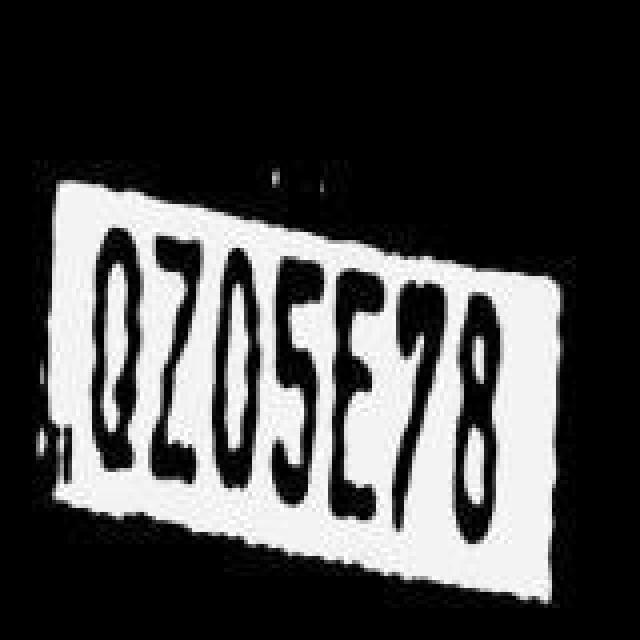5: (264, 244, 344, 556)
7: (394, 272, 454, 536)
8: (456, 288, 512, 552)
E: (328, 262, 392, 538)
O: (210, 240, 270, 496)
Q: (78, 214, 146, 522)
Z: (144, 228, 208, 500)
